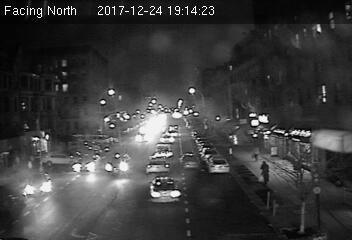car: (150, 177, 182, 206), (73, 153, 102, 172), (104, 153, 131, 173), (145, 156, 169, 175), (206, 155, 228, 172), (180, 153, 200, 170), (155, 143, 174, 159)
